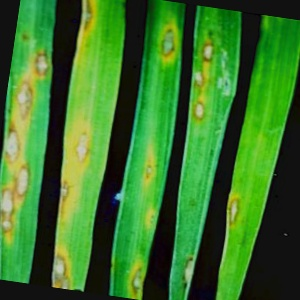Brown_Spot: (68, 121, 110, 170), (113, 254, 158, 298), (9, 78, 46, 122), (133, 138, 161, 193), (178, 233, 200, 300), (79, 0, 117, 35), (0, 183, 22, 238), (1, 122, 29, 164), (152, 22, 181, 62), (223, 190, 249, 232), (196, 33, 225, 69), (28, 46, 59, 78), (48, 251, 74, 288), (7, 164, 37, 196), (137, 205, 160, 235), (189, 65, 214, 91), (189, 93, 210, 121), (56, 182, 81, 205)
